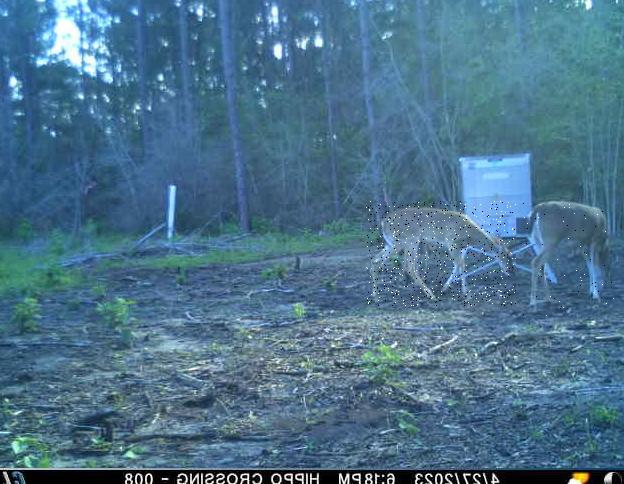Deer: (365, 202, 515, 307), (523, 199, 616, 316)
